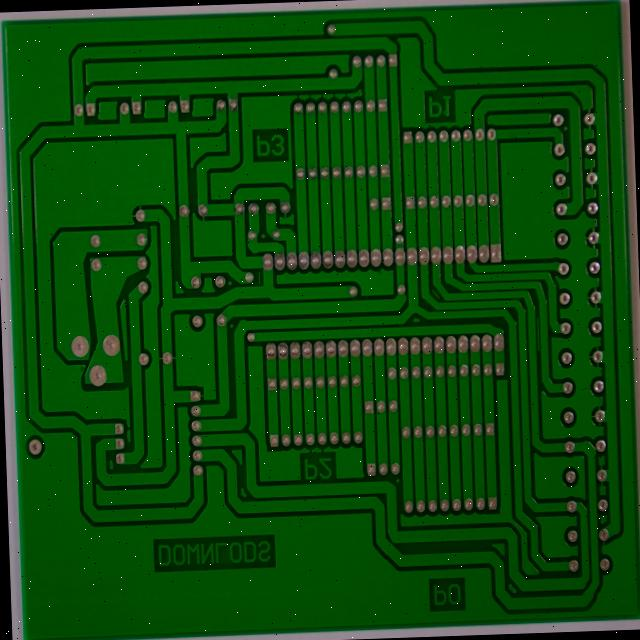spurious_copper: (518, 378, 533, 423), (400, 341, 421, 364), (207, 321, 218, 344)
